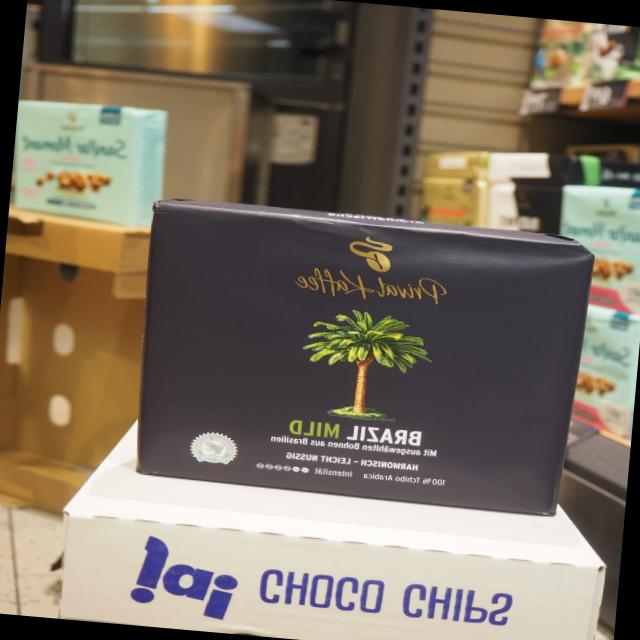BM Gemahlen: (133, 194, 601, 517)
